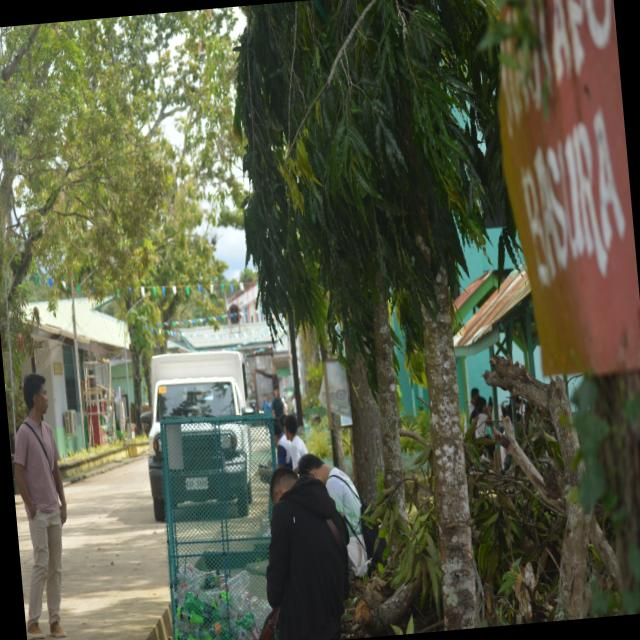person: (267, 468, 350, 639), (14, 374, 67, 639), (298, 454, 369, 577), (284, 415, 308, 473), (271, 386, 284, 418)
